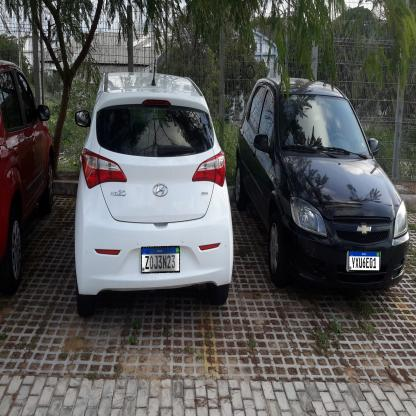PlacaM: (141, 246, 180, 273), (349, 250, 380, 272)
